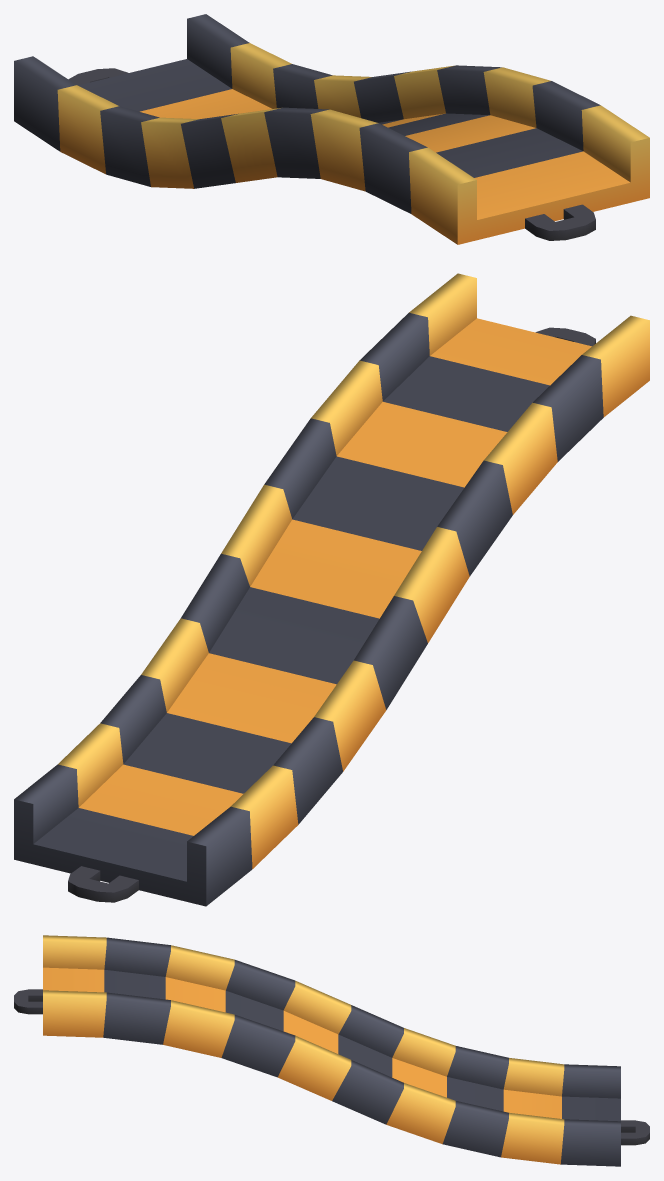
Rendered from track-striped-narrow-straight-hill-complete.fbx.
The picture shows the model from 3 angles, top to bottom: view 1: azimuth 30°, elevation 25°; view 2: azimuth 150°, elevation 25°; view 3: azimuth 270°, elevation 25°; orthographic projection. The views are drawn at different scales.
Parts seen in each view (by area): view 1: track-striped-narrow-straight-hill-complete; view 2: track-striped-narrow-straight-hill-complete; view 3: track-striped-narrow-straight-hill-complete.
Part boxes in pixels (x1,y1,x2,y2): track-striped-narrow-straight-hill-complete: [14, 14, 649, 244]; track-striped-narrow-straight-hill-complete: [14, 273, 649, 906]; track-striped-narrow-straight-hill-complete: [14, 935, 649, 1166].
Size of the model in its own units: 100 by 130 by 440.
